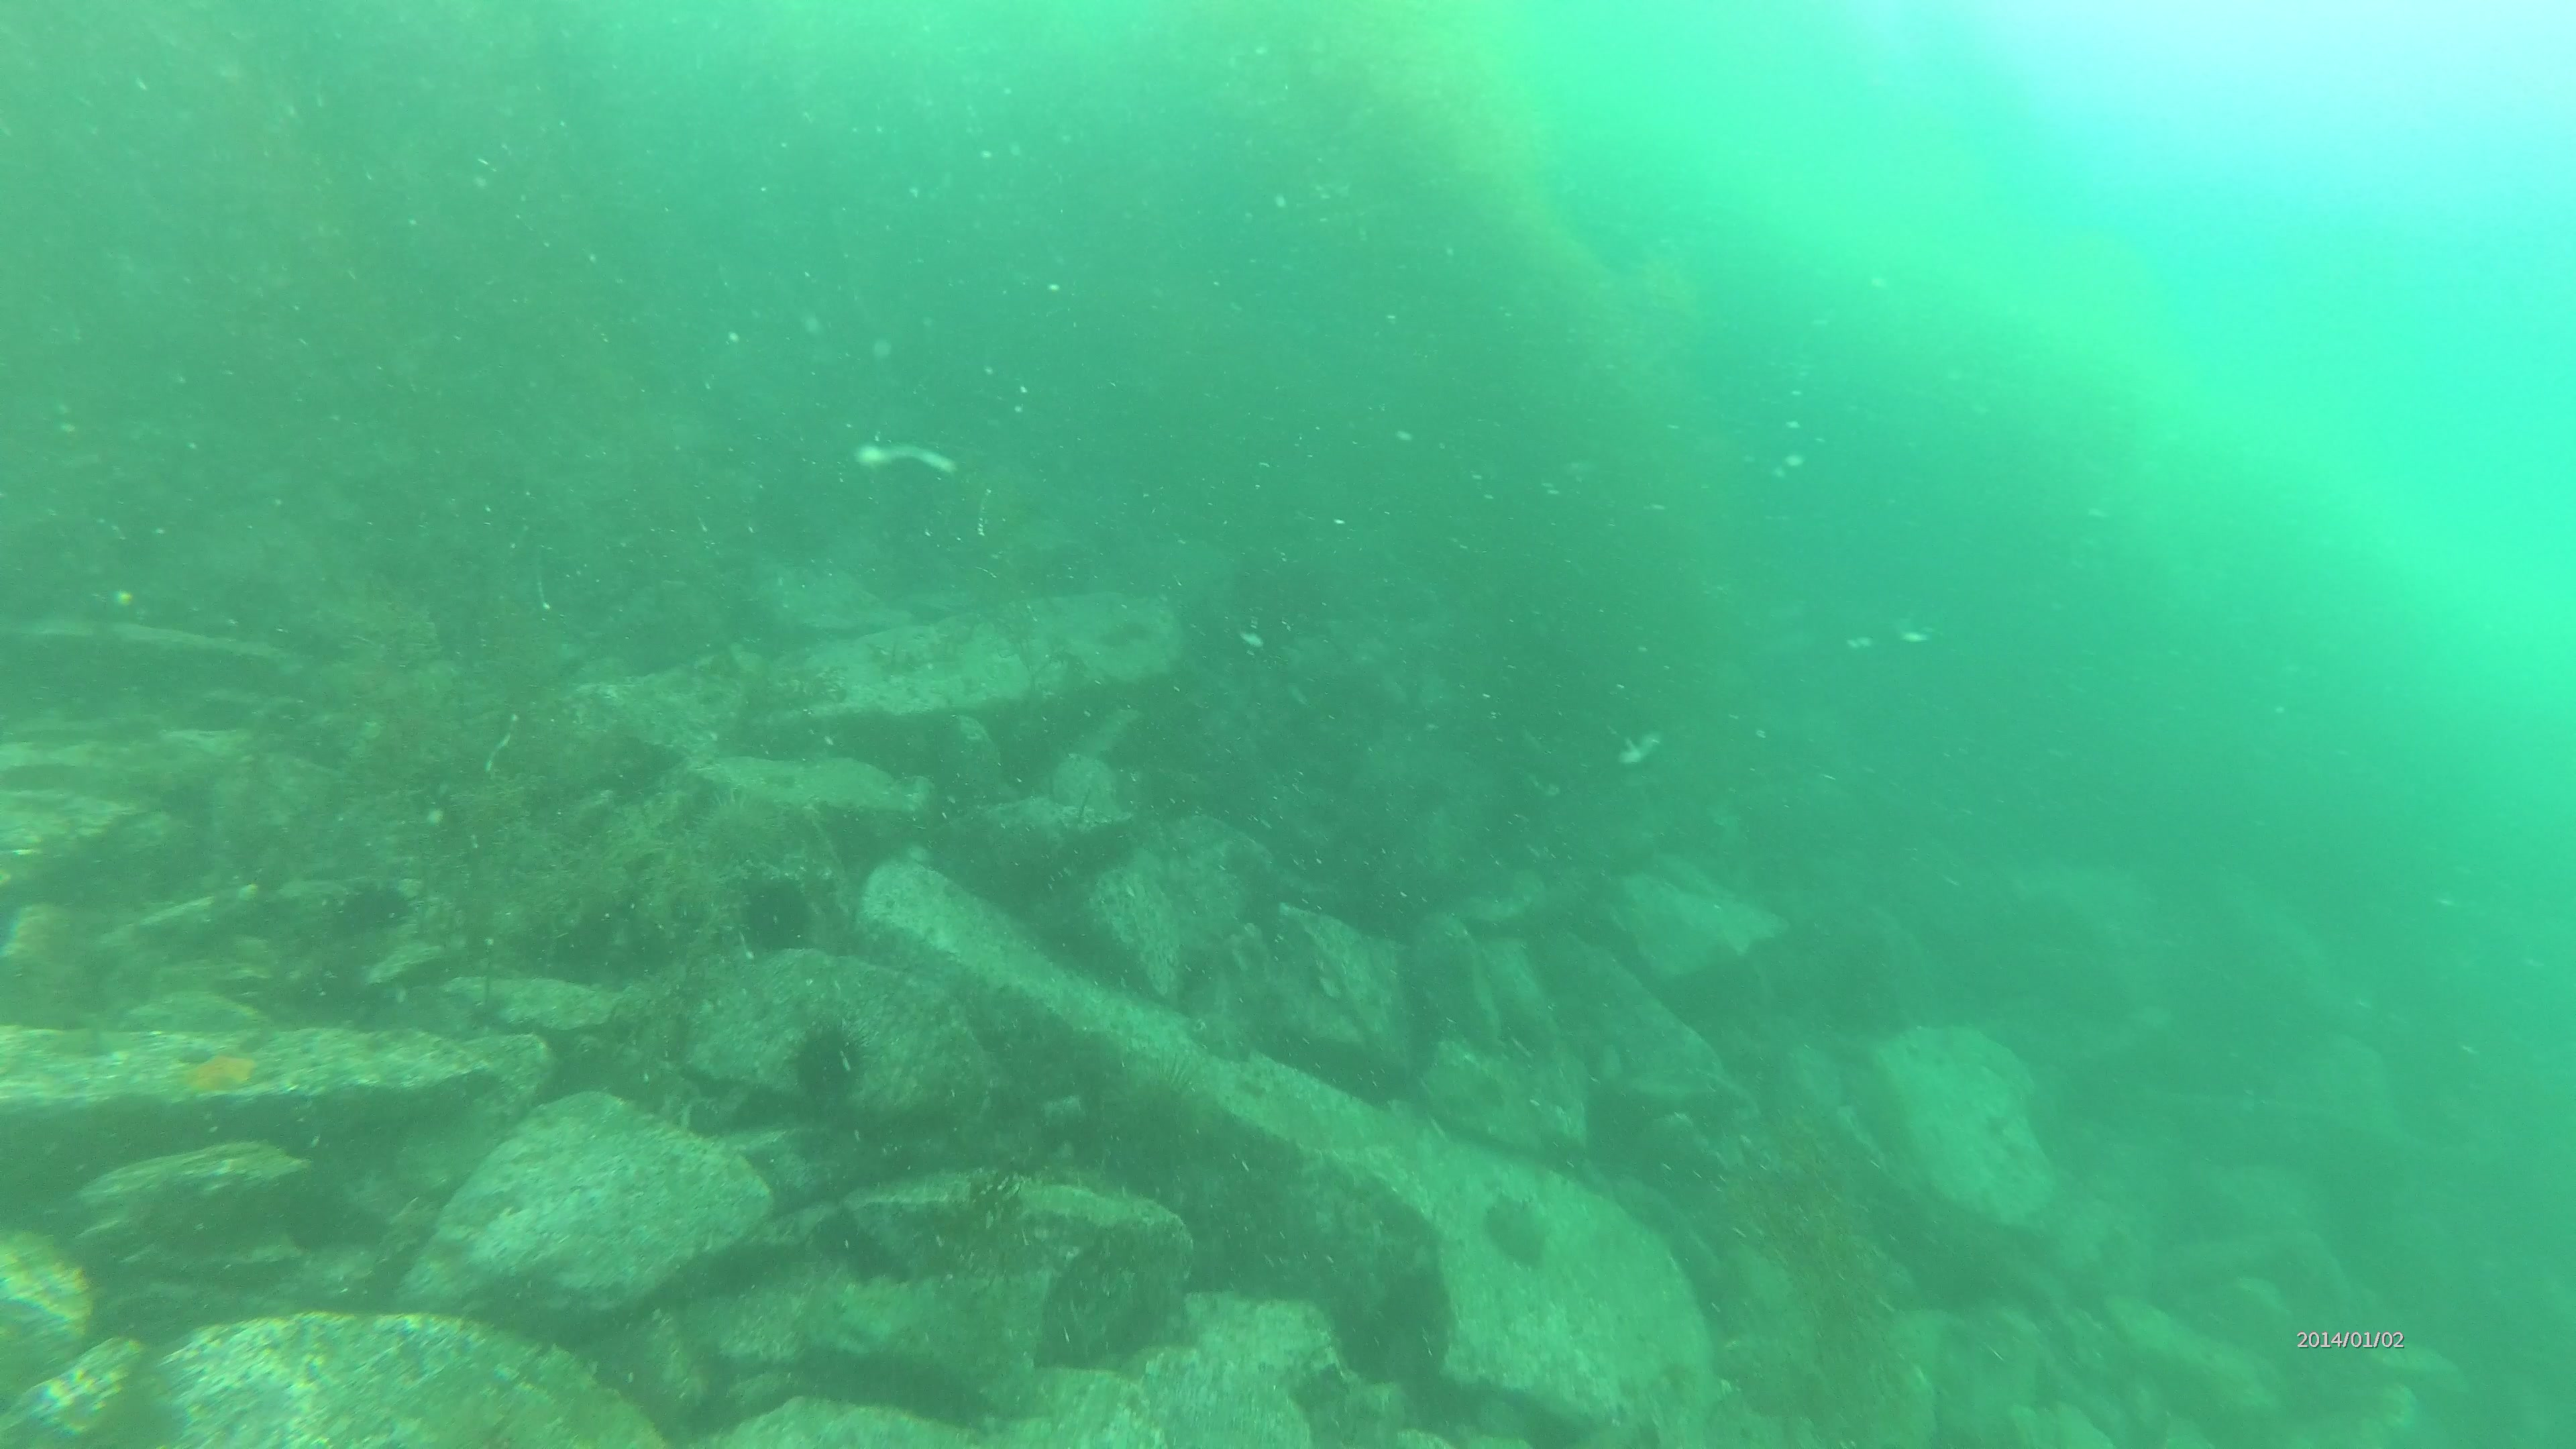echinus: (694, 782, 786, 874), (787, 1019, 872, 1106), (738, 867, 816, 948), (336, 878, 419, 934)
starfish: (179, 1049, 258, 1102)
